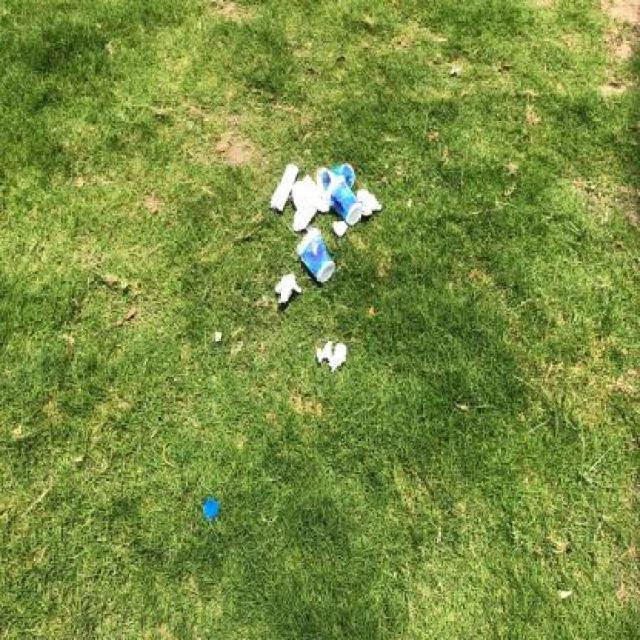garbage: (266, 158, 378, 304), (310, 338, 349, 374), (202, 499, 226, 528)
